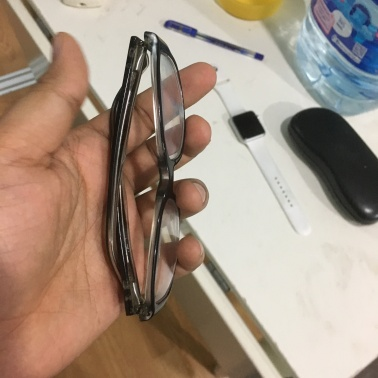glasses: (114, 29, 183, 318)
